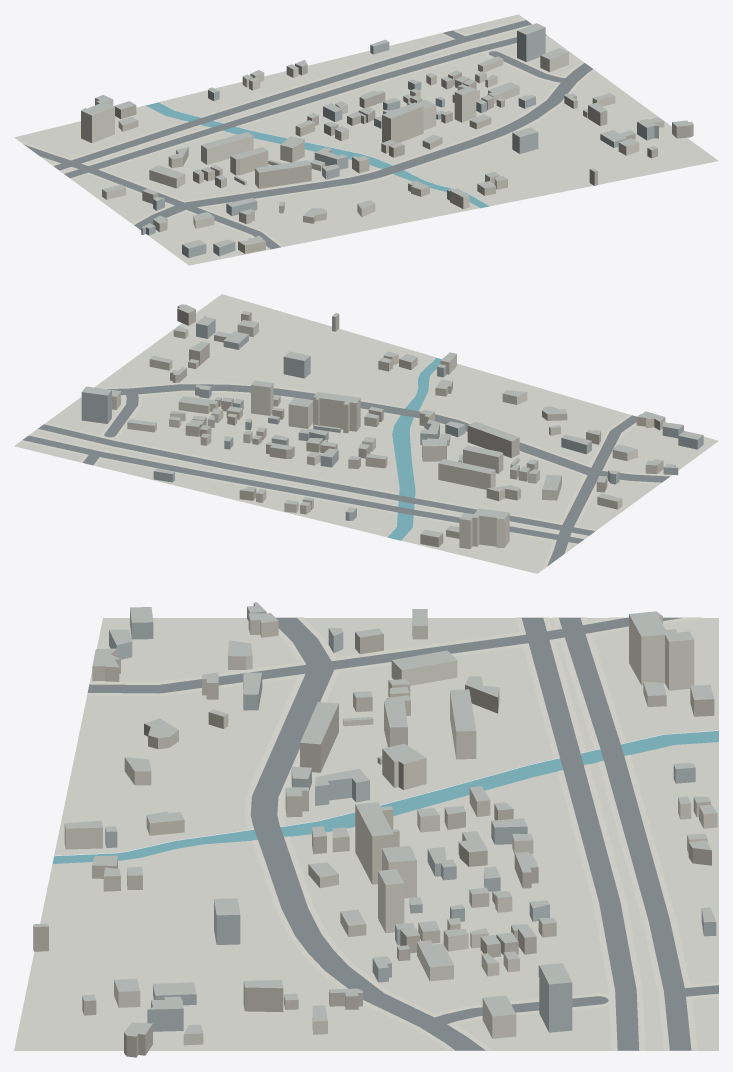
3 views of the same model, one above another, from view 1: azimuth 30°, elevation 25°; view 2: azimuth 150°, elevation 25°; view 3: azimuth 270°, elevation 25° (orthographic). The views are drawn at different scales.
Parts seen in each view (by area): view 1: city; view 2: city; view 3: city.
Boxes of the visible parts, x1=… form: city: x1=14, y1=14, x2=718, y2=265; city: x1=14, y1=294, x2=718, y2=573; city: x1=14, y1=602, x2=718, y2=1057.
Size of the model in its own units: 512 by 26.48 by 344.
